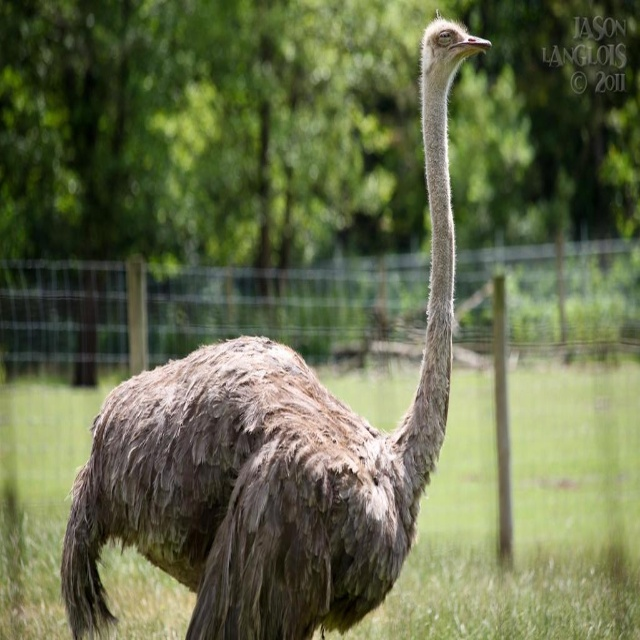Ostrich: (60, 9, 492, 640)
